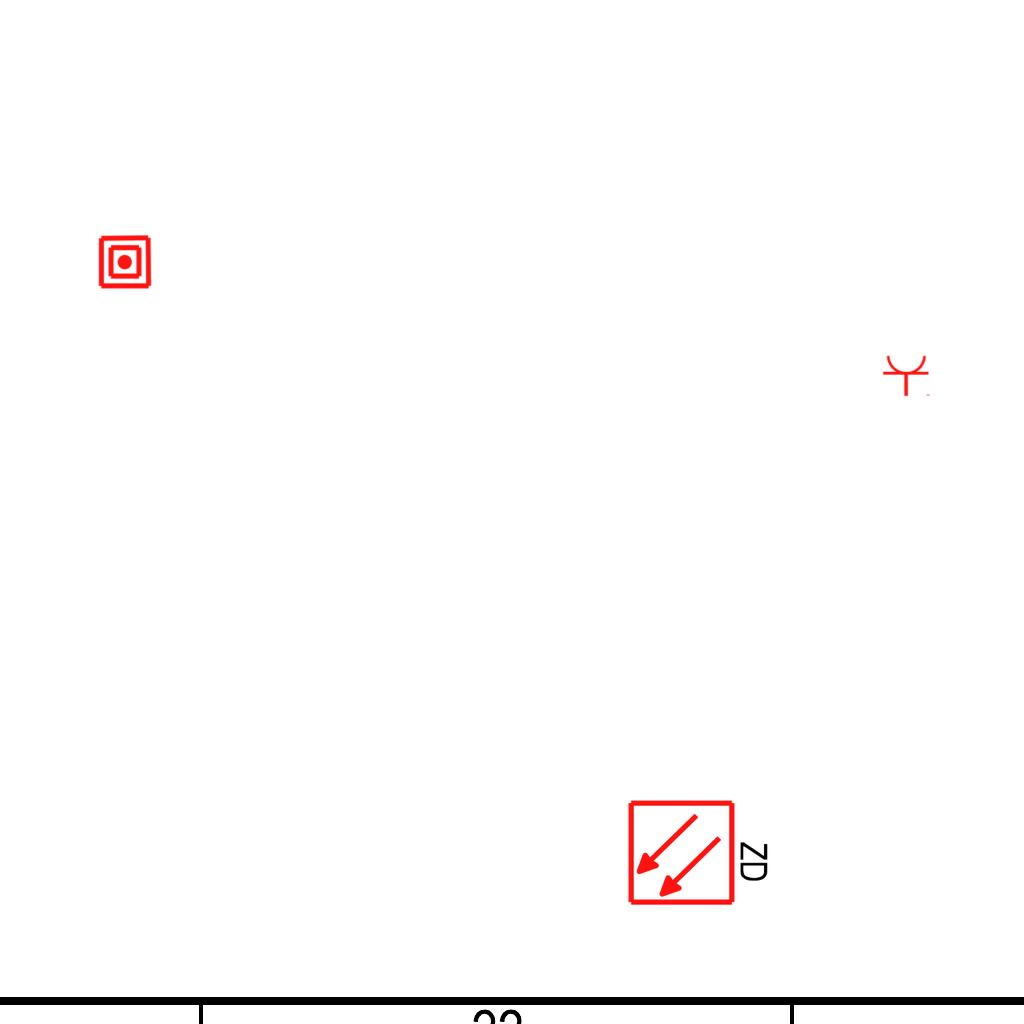NAM-Nichtautomatischer_Melder: (97, 234, 153, 290)
Schukosteckdose_einfach: (882, 354, 932, 397)
ZD_Melder_in_Zwischendecke_mit_Revisionsoeffnung_mind_40_x_40_cm: (626, 794, 775, 908)
